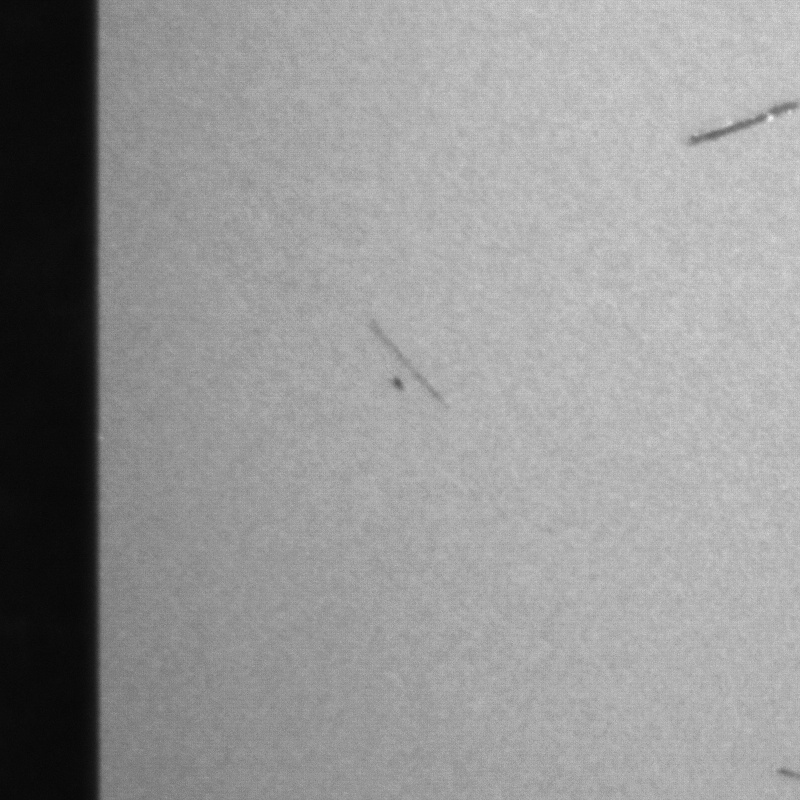defect: (370, 319, 453, 414), (692, 103, 800, 138), (772, 765, 799, 779)
